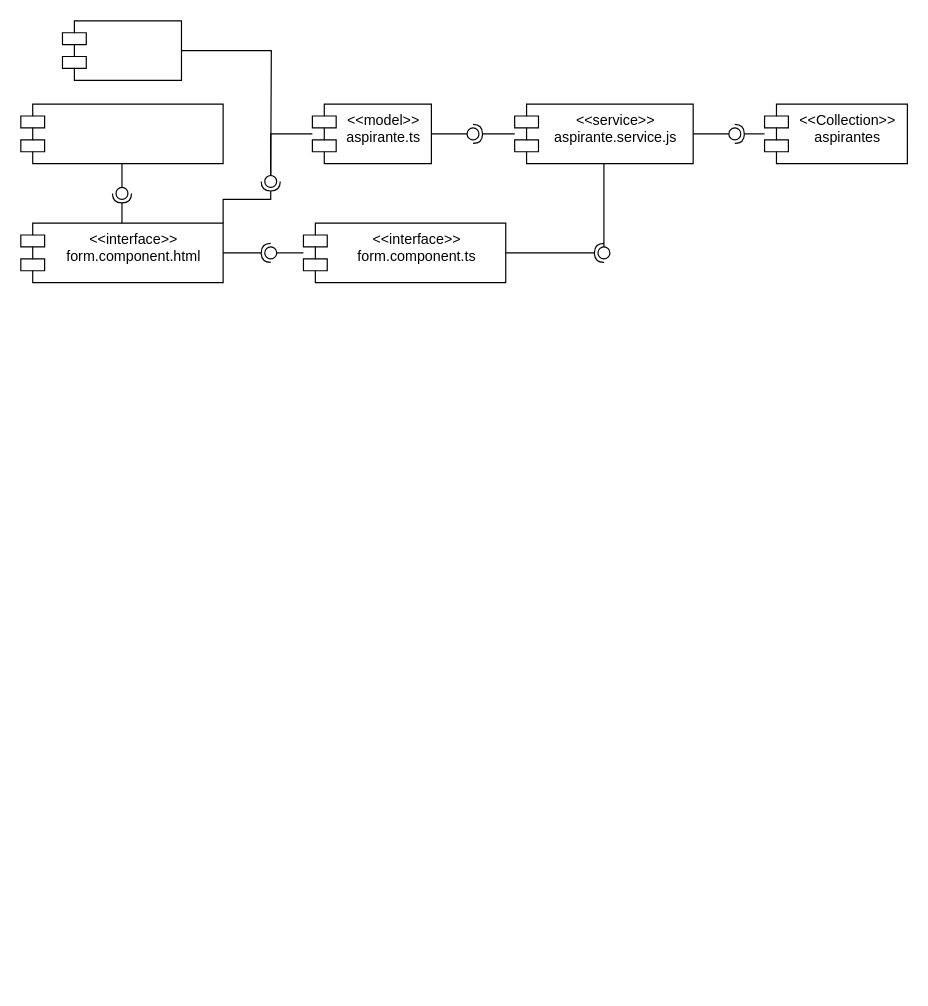
This 928x1006 diagram has some shape labels left out. Each missing label, with the centre of its shape:
<<library>> Bootstrap: [121,50]
<<styles>> form.component.css: [121,133]
